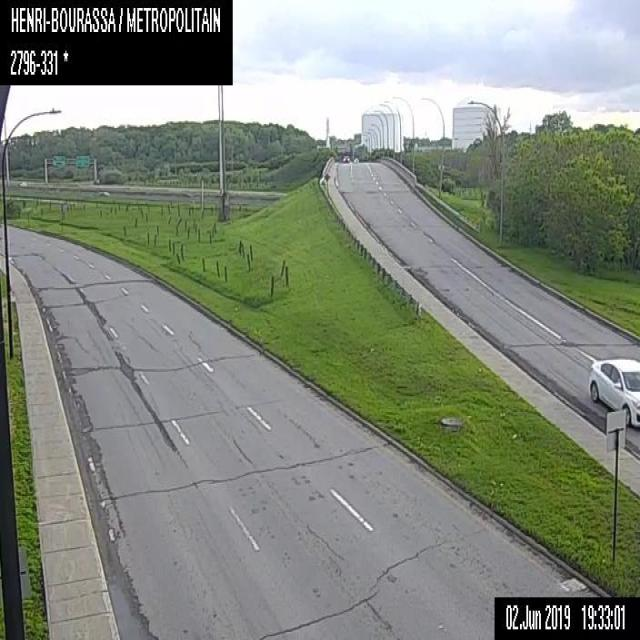vehicle: (586, 355, 639, 428), (342, 154, 349, 161), (354, 157, 358, 162)
